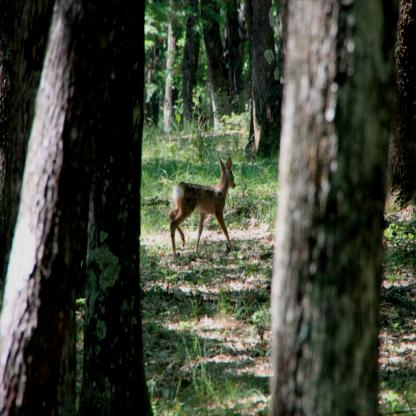Deer: (168, 156, 236, 261)
